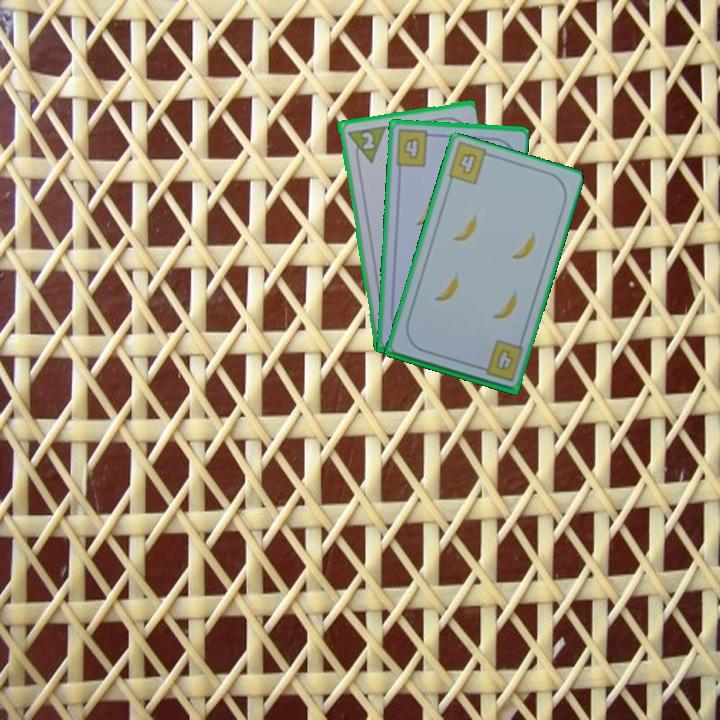2p: (358, 128, 377, 152)
4b: (474, 337, 523, 384), (392, 126, 437, 170), (455, 149, 479, 177)
